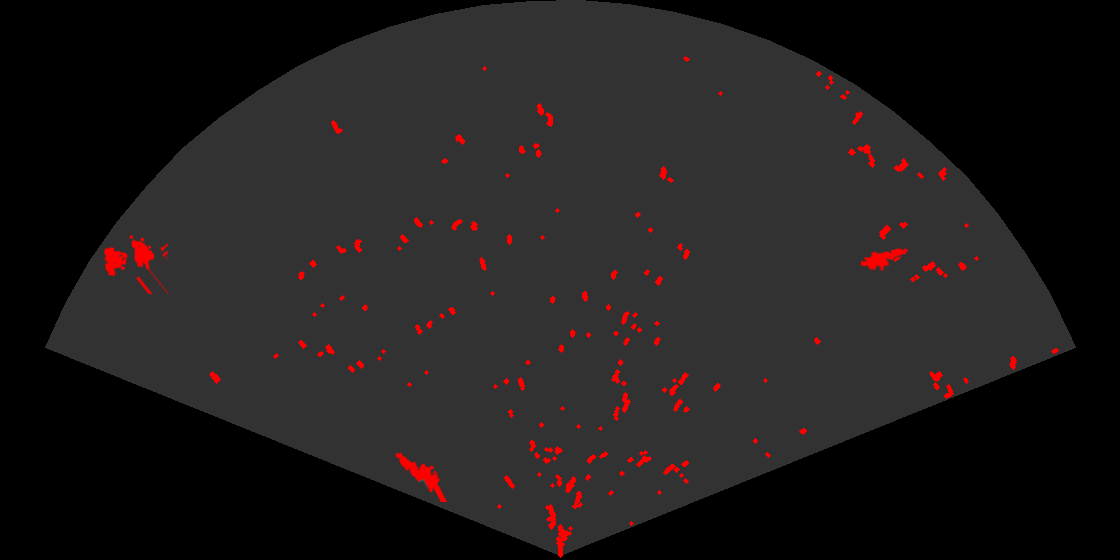cage: (102, 233, 168, 294)
frogman: (394, 451, 448, 502), (861, 247, 908, 273)
